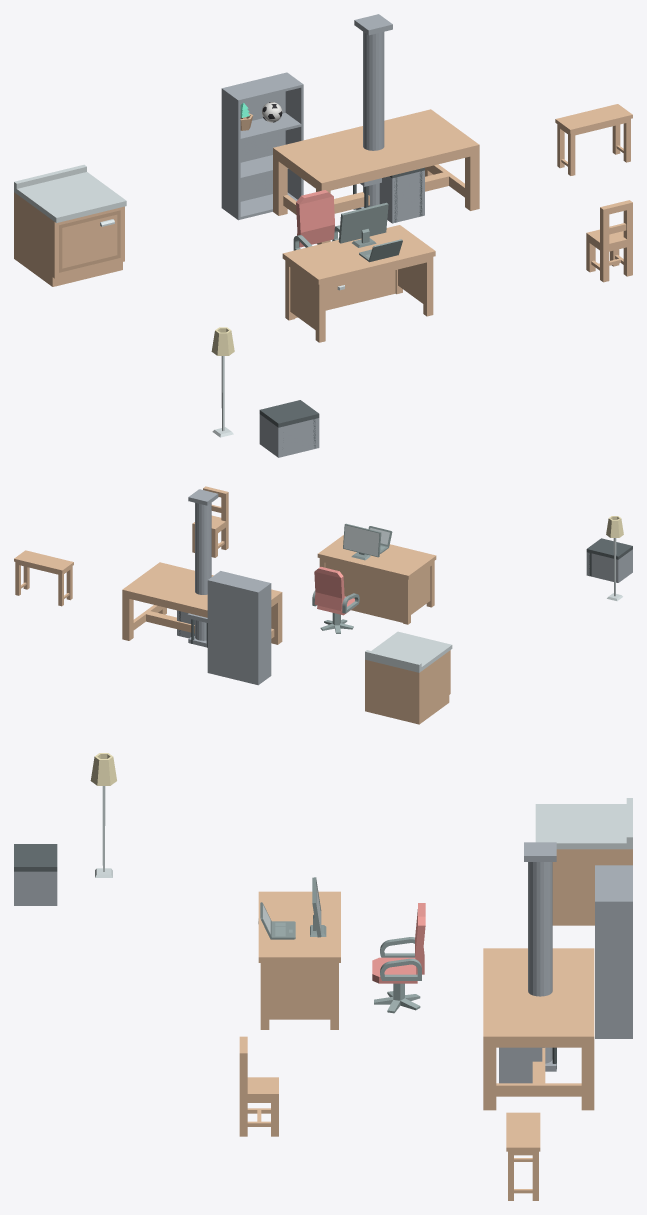
3 views of the same model, one above another, from view 1: azimuth 30°, elevation 25°; view 2: azimuth 150°, elevation 25°; view 3: azimuth 270°, elevation 25° (orthographic). The views are drawn at different scales.
Visible parts, largest first — view 1: table_green__table(Clone), desk_blue__desk(Clone), cabinet_blue__kitchenCabinet(Clone), cabinet_blue__door, column_cyan__column_cyan shaft, sidetable_brown__sideTable(Clone), chair_cyan__chair(Clone), shelf_orange__shelf_orange side_l, shelf_orange__shelf_orange back, deskchair_black__chair, bin_gray__bin_gray shell, crate_red__crate_red shell (+7 smaller); view 2: cabinet_blue__kitchenCabinet(Clone), desk_blue__desk(Clone), table_green__table(Clone), shelf_orange__shelf_orange back, column_cyan__column_cyan shaft, sidetable_brown__sideTable(Clone), deskchair_black__chair, shelf_orange__shelf_orange side_l, monitor_gray__computerScreen(Clone), chair_cyan__chair(Clone), crate_red__crate_red shell, shelf_orange__shelf_orange board3 (+4 smaller); view 3: table_green__table(Clone), desk_blue__desk(Clone), cabinet_blue__kitchenCabinet(Clone), shelf_orange__shelf_orange side_r, column_cyan__column_cyan shaft, chair_cyan__chair(Clone), sidetable_brown__sideTable(Clone), deskchair_black__chair, crate_red__crate_red shell, bin_gray__bin_gray shell, shelf_orange__shelf_orange board3, crate_red__crate_red lid (+4 smaller).
Part boxes in pixels (box(x1,y1,x2,y2)): table_green__table(Clone): box(273, 109, 479, 244); desk_blue__desk(Clone): box(282, 225, 435, 342); cabinet_blue__kitchenCabinet(Clone): box(14, 164, 126, 286); cabinet_blue__door: box(59, 210, 120, 272); column_cyan__column_cyan shaft: box(363, 32, 384, 206); sidetable_brown__sideTable(Clone): box(555, 104, 632, 175); chair_cyan__chair(Clone): box(586, 200, 632, 282); shelf_orange__shelf_orange side_l: box(221, 88, 240, 220); shelf_orange__shelf_orange back: box(224, 73, 285, 201); deskchair_black__chair: box(293, 190, 339, 250); bin_gray__bin_gray shell: box(379, 170, 424, 223); crate_red__crate_red shell: box(259, 414, 319, 457); cabinet_blue__kitchenCabinet(Clone): box(365, 631, 452, 724); desk_blue__desk(Clone): box(317, 535, 436, 624); table_green__table(Clone): box(122, 562, 282, 644); shelf_orange__shelf_orange back: box(209, 580, 256, 684); column_cyan__column_cyan shaft: box(195, 503, 211, 640); sidetable_brown__sideTable(Clone): box(14, 550, 73, 606); deskchair_black__chair: box(312, 567, 359, 615); shelf_orange__shelf_orange side_l: box(256, 582, 271, 685); monitor_gray__computerScreen(Clone): box(343, 523, 381, 560); chair_cyan__chair(Clone): box(192, 486, 228, 557); crate_red__crate_red shell: box(586, 549, 632, 582); shelf_orange__shelf_orange board3: box(211, 571, 268, 591); table_green__table(Clone): box(483, 948, 594, 1110); desk_blue__desk(Clone): box(258, 891, 340, 1029); cabinet_blue__kitchenCabinet(Clone): box(535, 798, 632, 925); shelf_orange__shelf_orange side_r: box(595, 900, 632, 1038); column_cyan__column_cyan shaft: box(528, 862, 552, 1063); chair_cyan__chair(Clone): box(239, 1036, 278, 1136); sidetable_brown__sideTable(Clone): box(506, 1112, 540, 1200); deskchair_black__chair: box(372, 903, 425, 983); crate_red__crate_red shell: box(14, 871, 57, 905); bin_gray__bin_gray shell: box(499, 1047, 542, 1083); shelf_orange__shelf_orange board3: box(595, 866, 630, 900); crate_red__crate_red lid: box(14, 844, 57, 871).
Bounding box in the file's own units: 7.26 × 2.2 × 5.72.
